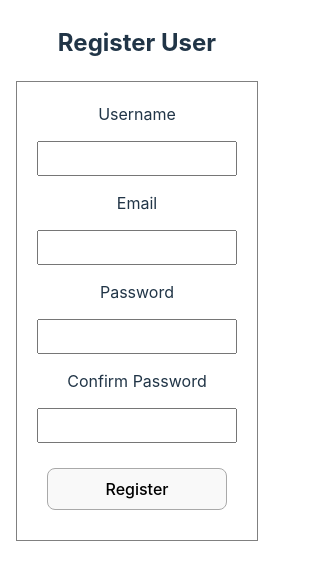
Test: Register Component › shows error for mismatched passwords and does not submit
This screenshot has width=320, height=571.
Type "testuser" into the field labelled "Username" at (137, 159), box x1=37 y1=141 x2=237 y2=176
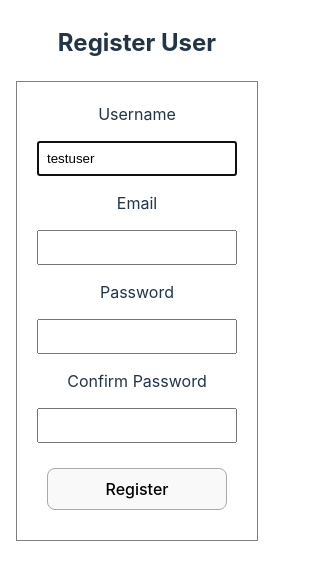
Type "test@example.com" into the field labelled "Email" at (137, 248), box x1=37 y1=230 x2=237 y2=265
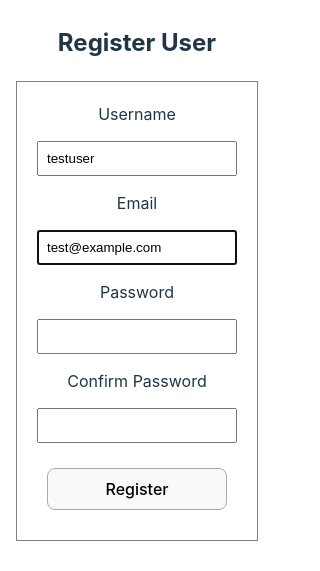
Type "password123" into the password field labelled "Password" at (137, 337), box x1=37 y1=319 x2=237 y2=354
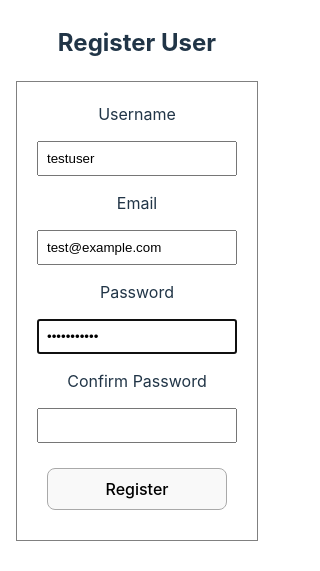
Type "password321" into the password field labelled "Confirm Password" at (137, 426), box x1=37 y1=408 x2=237 y2=443
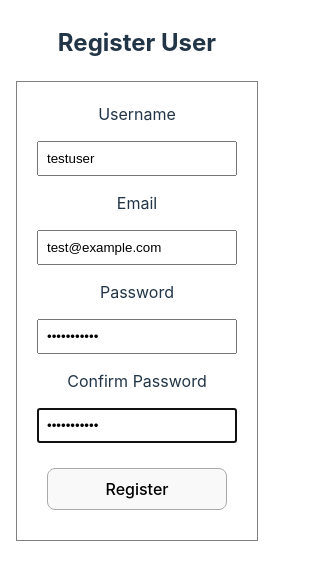
Click the button "Register" at (137, 489), box x1=47 y1=468 x2=227 y2=510
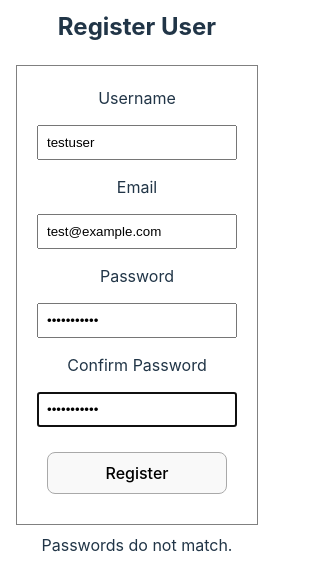
Now the text "Passwords do not match." is shown, box x1=42 y1=534 x2=232 y2=554
